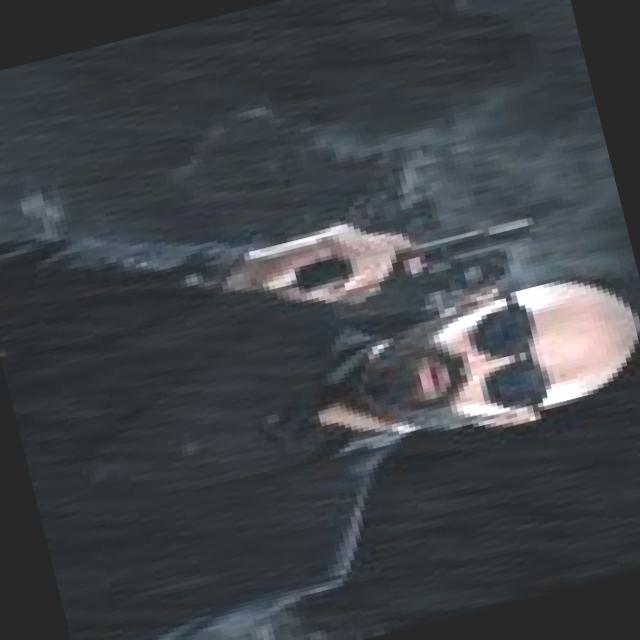handgun: (292, 200, 556, 290)
